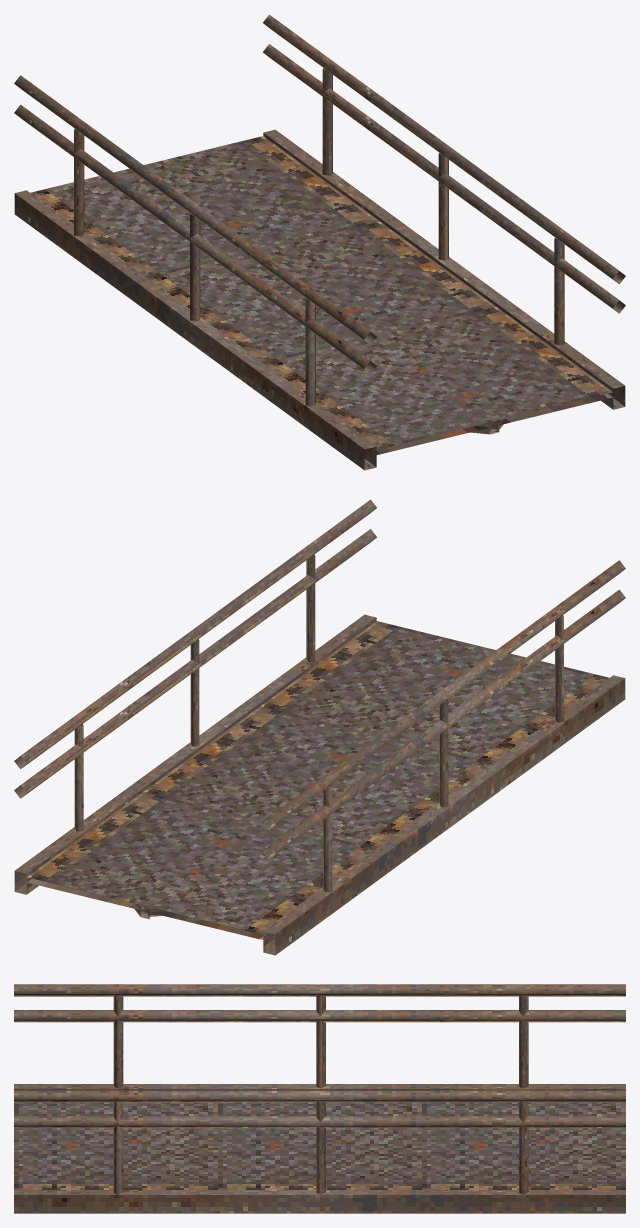
Rendered from bridges_2.glb.
The picture shows the model from 3 angles, top to bottom: view 1: azimuth 30°, elevation 25°; view 2: azimuth 150°, elevation 25°; view 3: azimuth 270°, elevation 25°; orthographic projection. The views are drawn at different scales.
Visible parts, largest first — view 1: Bridges_2; view 2: Bridges_2; view 3: Bridges_2.
Boxes of the visible parts, box(x1,y1,x2,y2) form: Bridges_2: box(14, 14, 625, 470); Bridges_2: box(14, 499, 625, 955); Bridges_2: box(14, 984, 625, 1213).
Size of the model in its own units: 2.1 by 1.05 by 4.85.
Materials: 1 (1 with a texture image).
